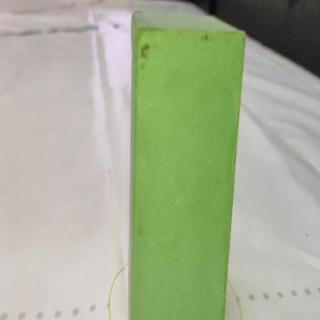greenbox: (129, 7, 248, 320)
